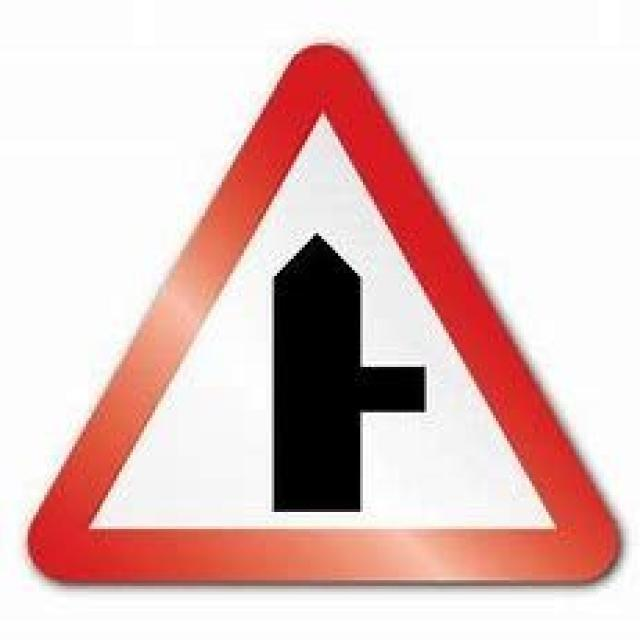side road right: (28, 47, 617, 589)
